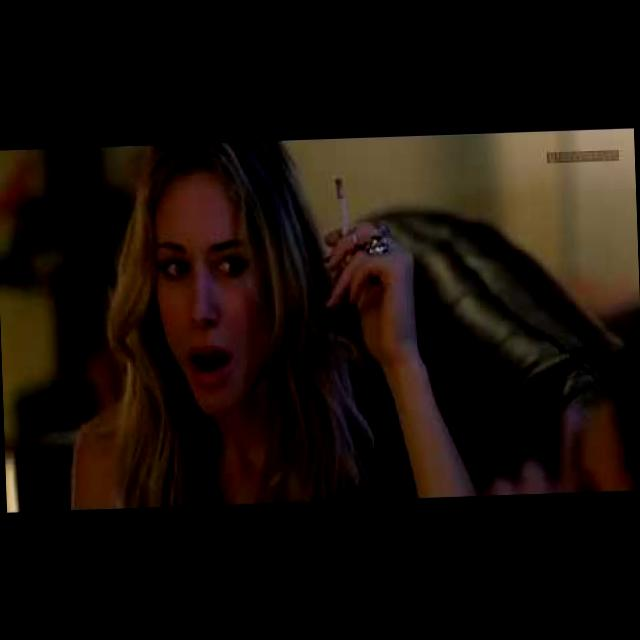smoke: (329, 172, 350, 235)
